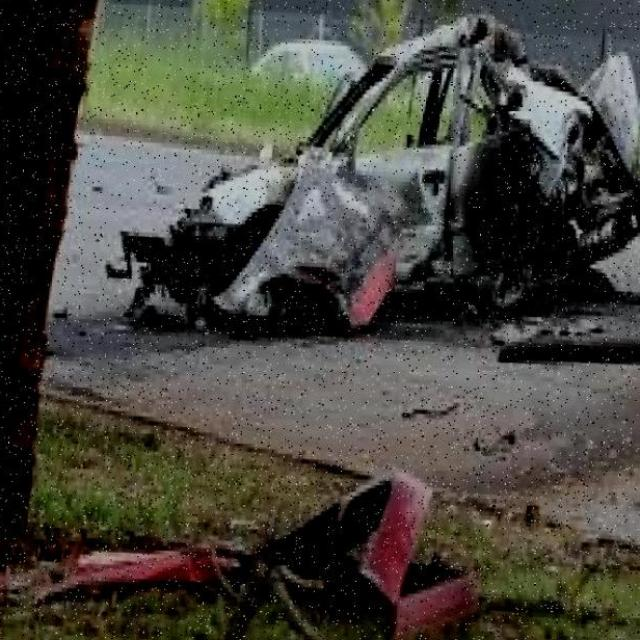accident: (120, 0, 640, 391)
